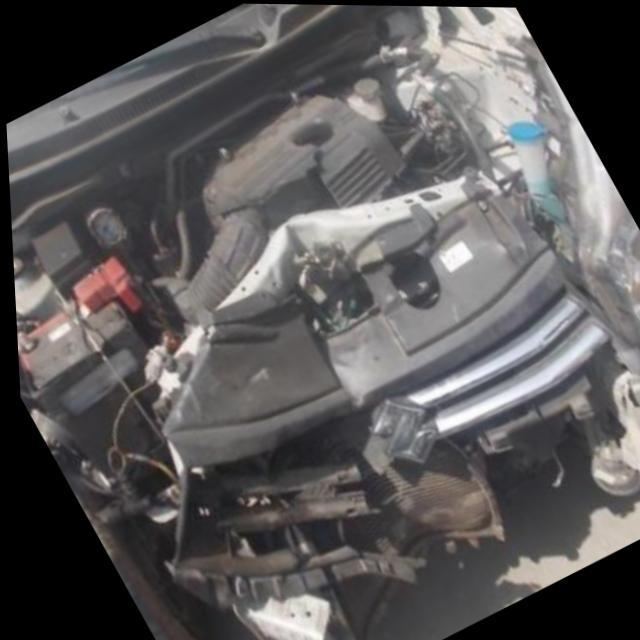no part: (11, 6, 640, 640)
